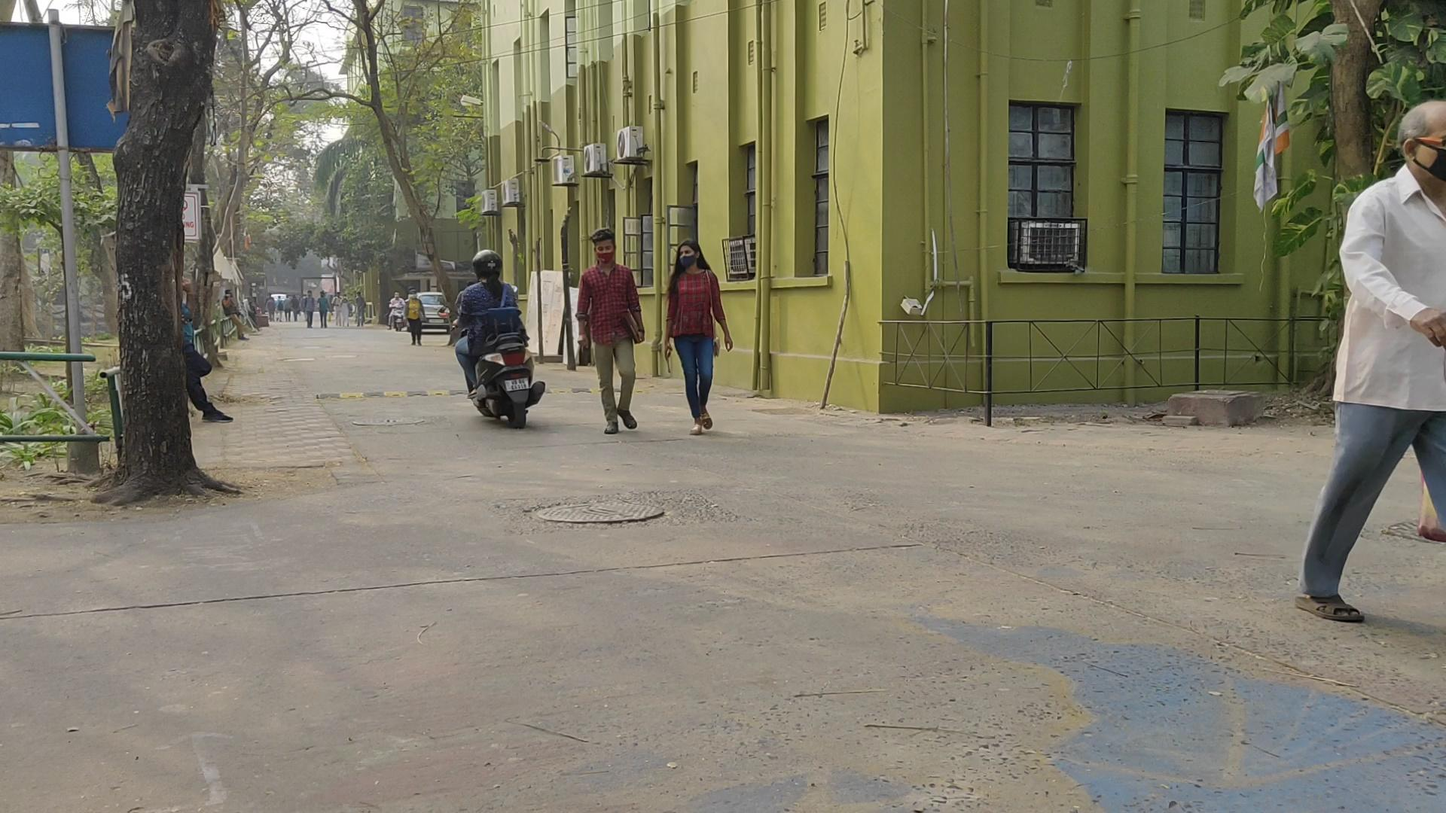bike: (451, 249, 545, 431), (387, 293, 407, 332)
